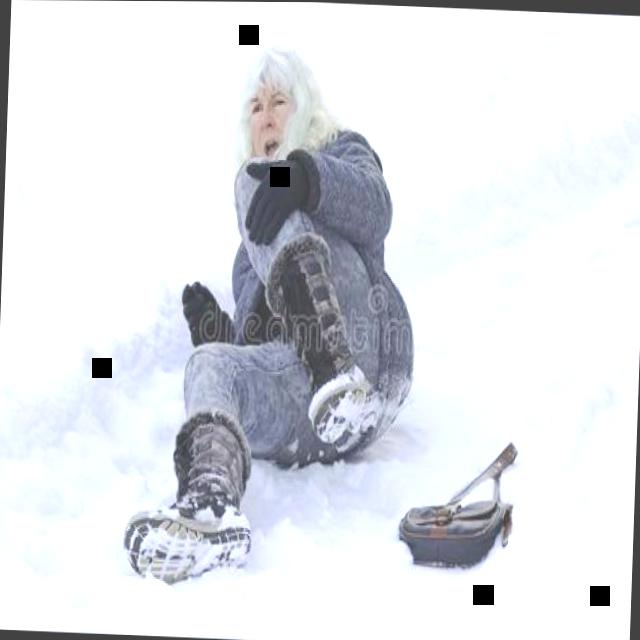Fall-Detected: (145, 1, 431, 605)
